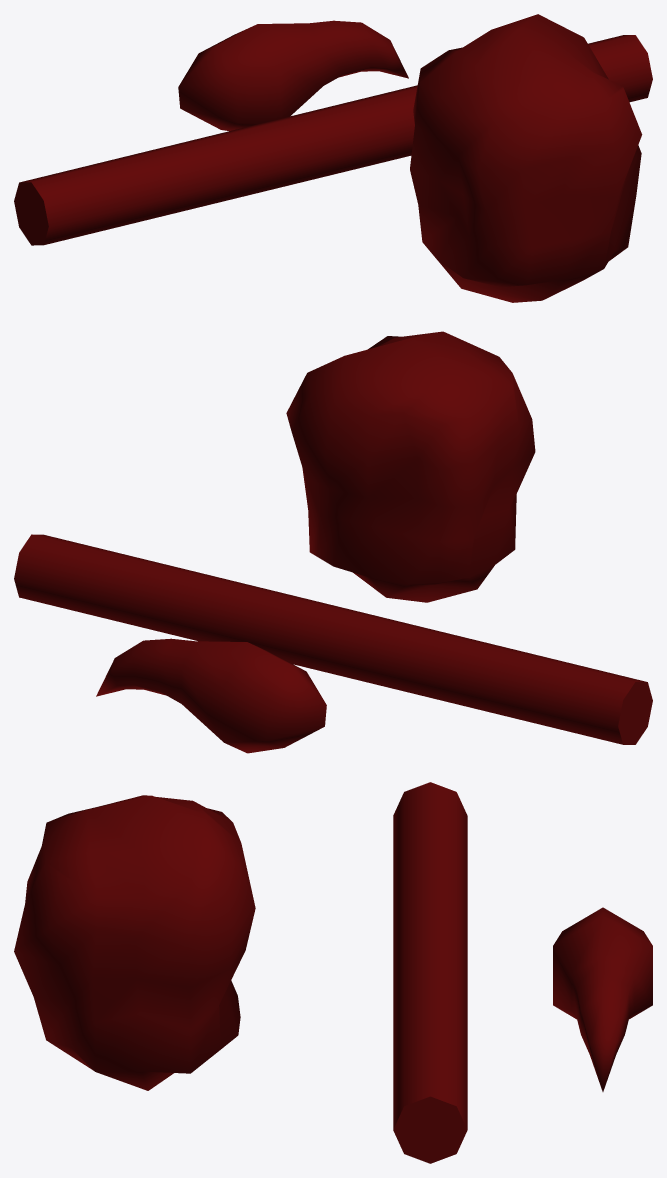
File: MESH_HellDecoPack2.fbx
3 renders of one model, top to bottom at view 1: azimuth 30°, elevation 25°; view 2: azimuth 150°, elevation 25°; view 3: azimuth 270°, elevation 25°, orthographic. The views are drawn at different scales.
Visible parts, largest first — view 1: HellDeco_AmorphousFleshBall, Rail_Fleshgrind, Rail_Fleshgrind_Endcap; view 2: HellDeco_AmorphousFleshBall, Rail_Fleshgrind, Rail_Fleshgrind_Endcap; view 3: HellDeco_AmorphousFleshBall, Rail_Fleshgrind, Rail_Fleshgrind_Endcap.
Boxes of the visible parts, x1,y1,x2,y2 form: HellDeco_AmorphousFleshBall: [410, 14, 642, 302]; Rail_Fleshgrind: [14, 35, 652, 245]; Rail_Fleshgrind_Endcap: [178, 20, 408, 131]; HellDeco_AmorphousFleshBall: [286, 331, 535, 602]; Rail_Fleshgrind: [14, 534, 652, 744]; Rail_Fleshgrind_Endcap: [96, 638, 326, 753]; HellDeco_AmorphousFleshBall: [14, 795, 255, 1090]; Rail_Fleshgrind: [393, 782, 467, 1163]; Rail_Fleshgrind_Endcap: [553, 907, 652, 1091].
Size of the model in its own units: 4 by 1.68 by 3.44.
